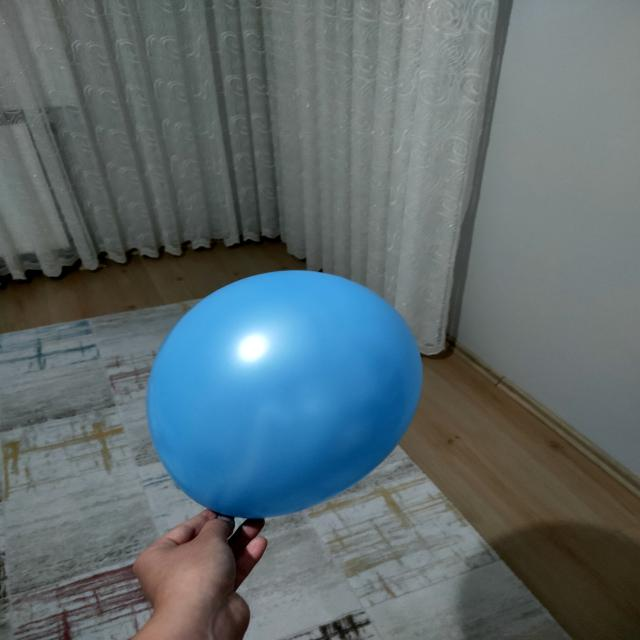blue: (146, 271, 424, 518)
